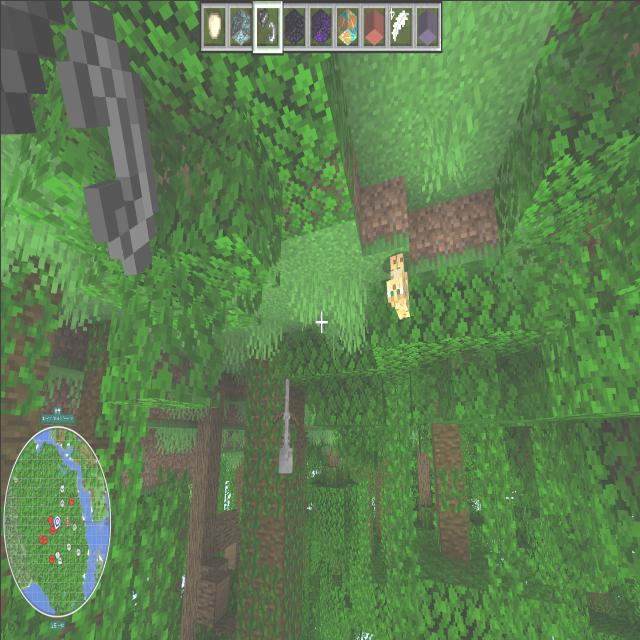Ocelot: (381, 244, 417, 326)
Skeleton: (268, 365, 302, 481)
